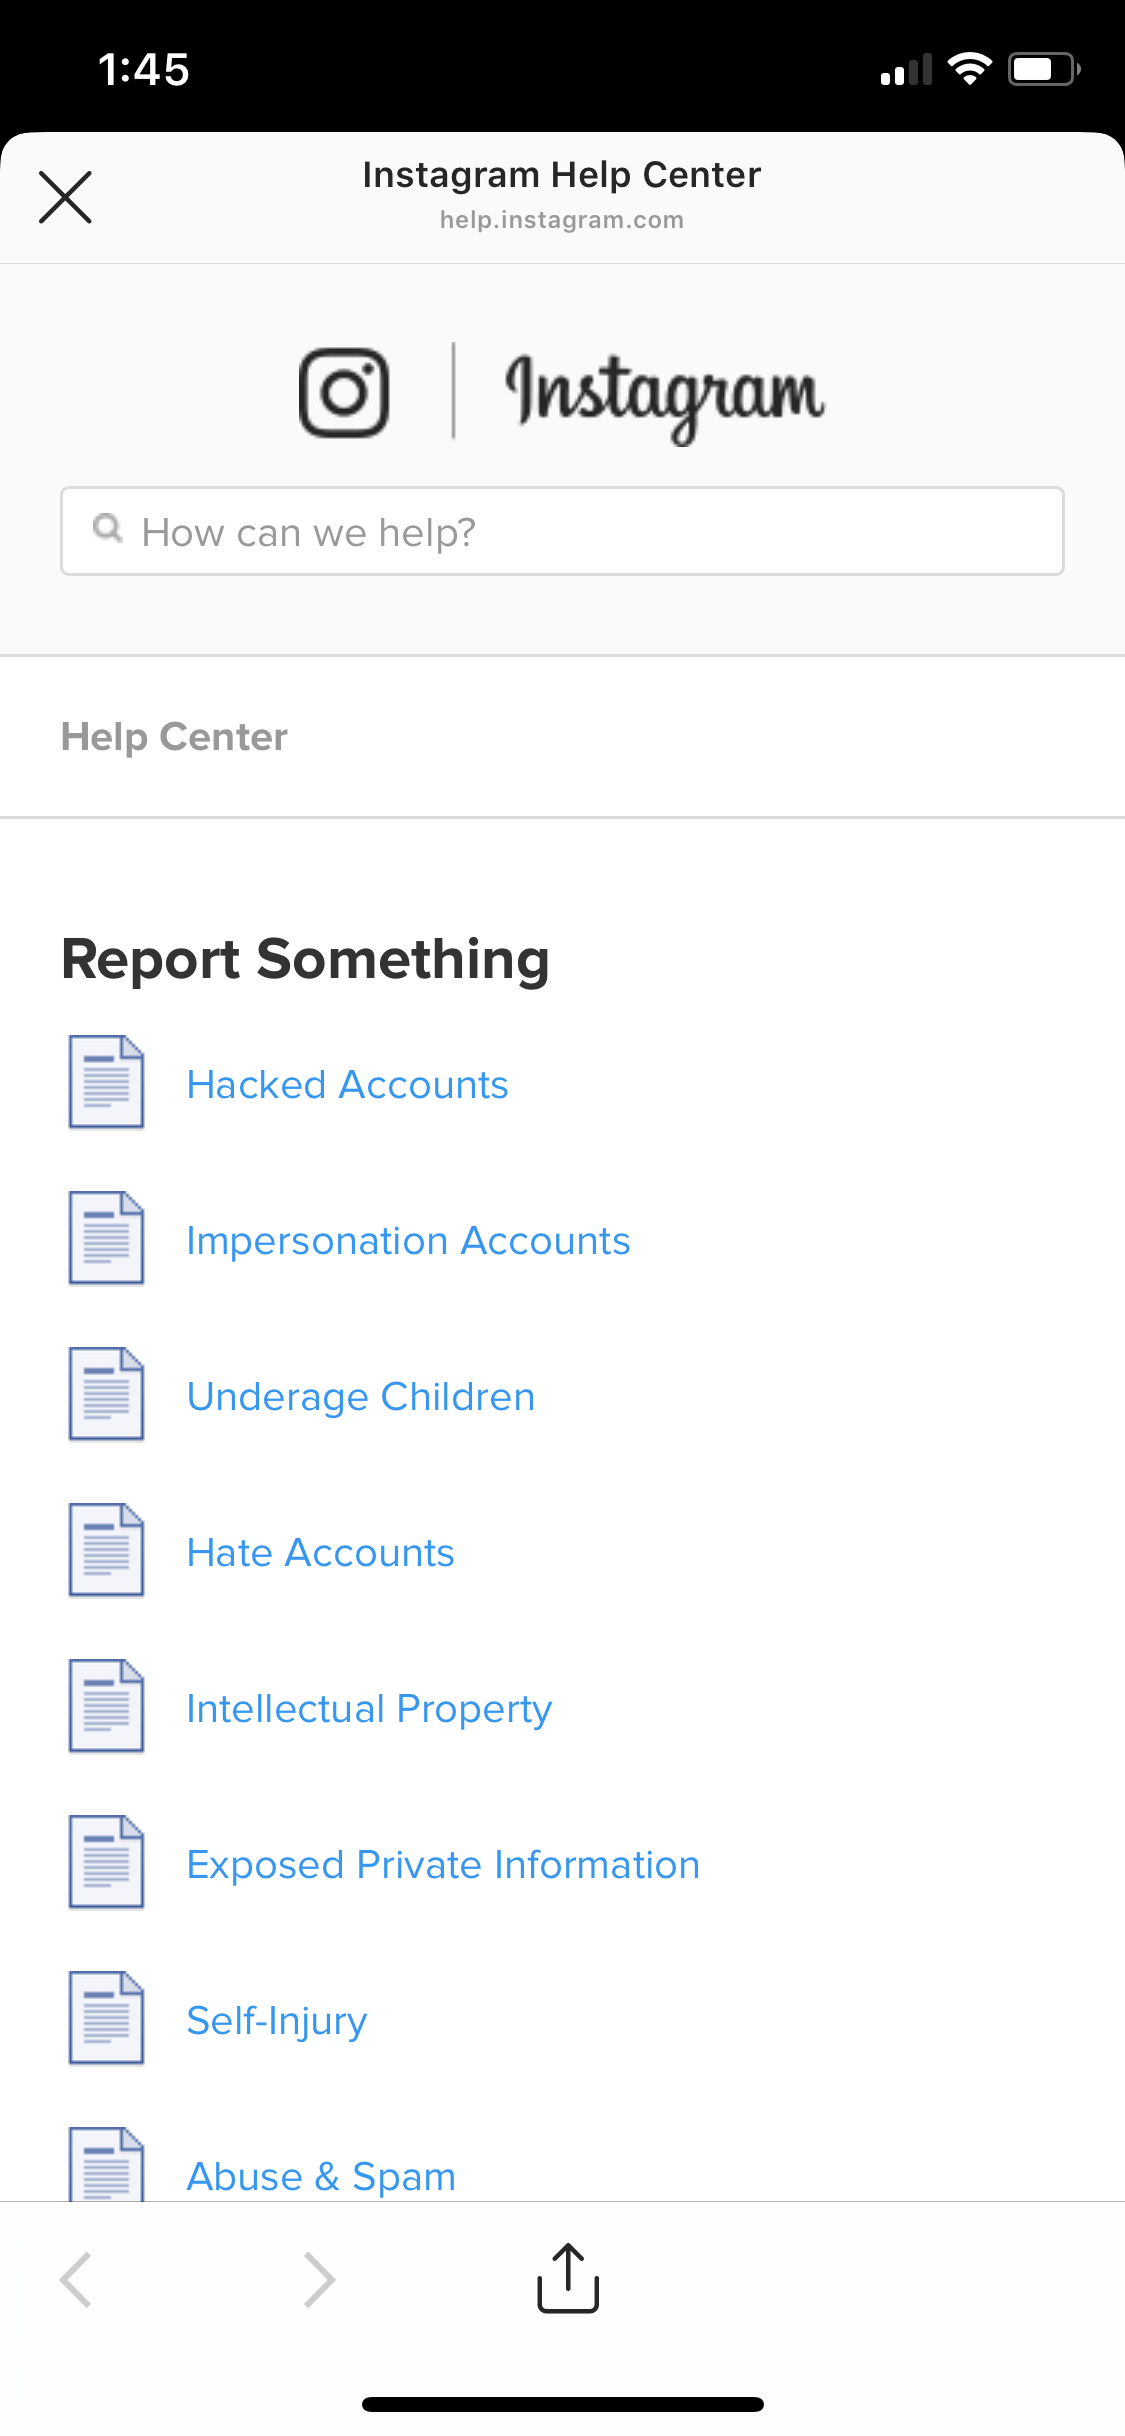Buttons: (497, 2220, 642, 2347), (255, 2218, 381, 2349), (30, 2215, 151, 2344), (19, 148, 109, 242)
